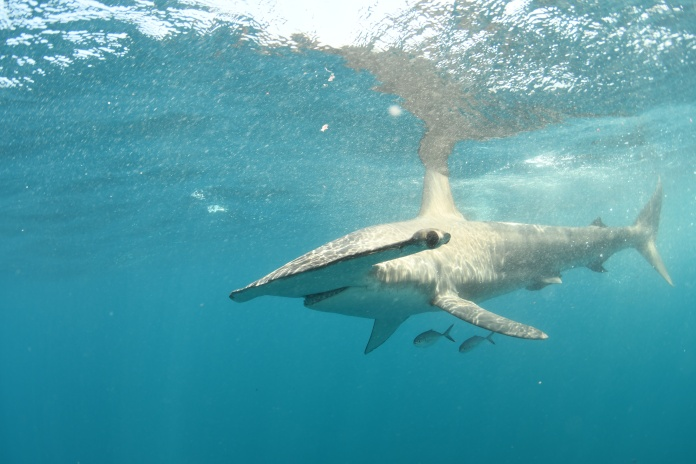Hammer: (210, 152, 696, 375)
